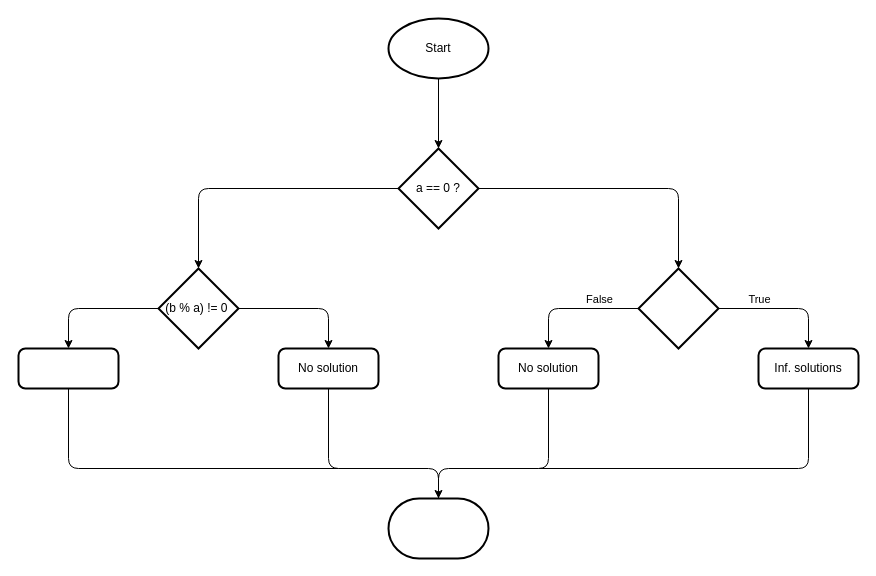
This 876x576 diagram has some shape labels left out. Each missing label, with the box of its shape:
b == 0 ?: (637, 267, 719, 349)
End: (387, 497, 489, 559)
Solution = -b // a: (17, 347, 119, 389)
